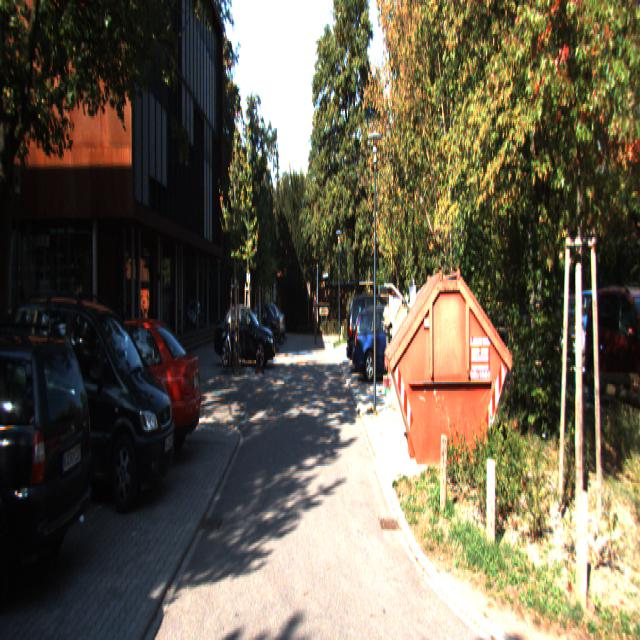Car: (0, 287, 176, 515), (0, 315, 102, 610), (54, 313, 203, 467), (581, 284, 639, 426), (352, 302, 422, 382), (346, 291, 409, 373), (216, 303, 277, 366)
